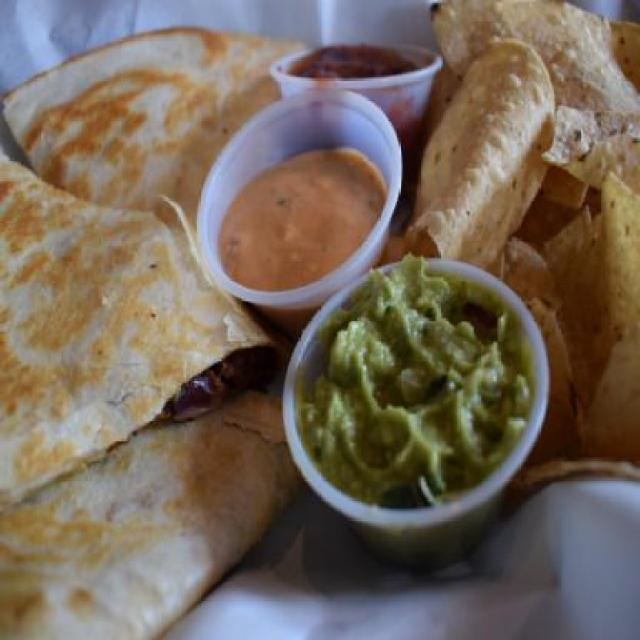guacamole: (283, 266, 542, 517)
nachos: (415, 2, 639, 468)
